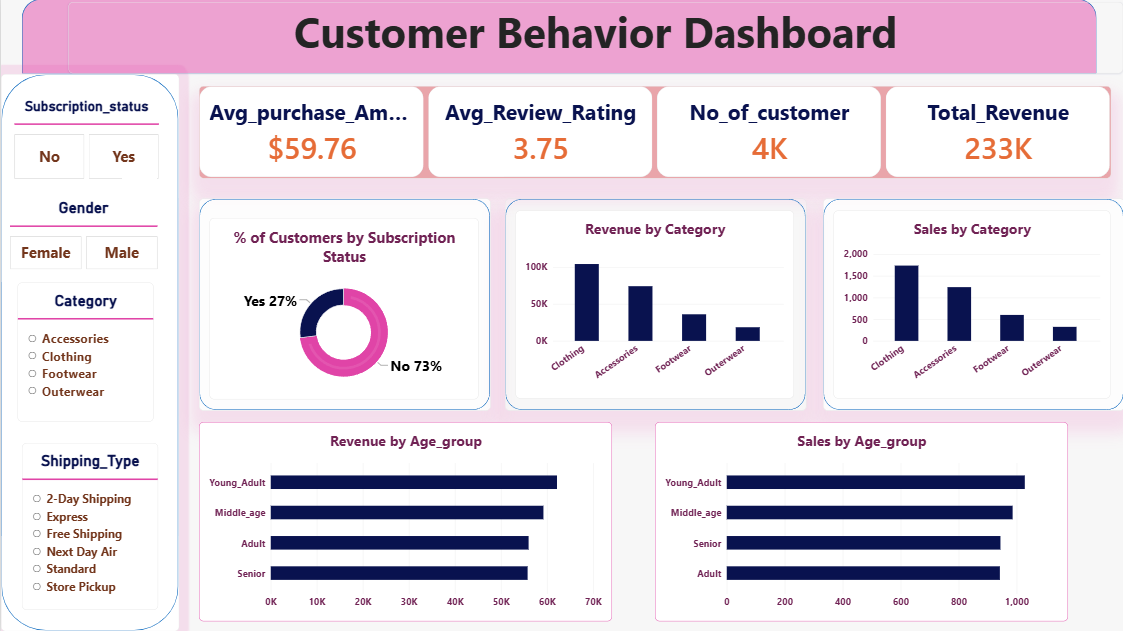

What the dashboard file says about the page in this screenshot:
{"tool":"powerbi","page":{"name":"Page 1","canvas":[1920,1080],"ordinal":0},"visuals":[{"type":"cardVisual","fields":{"Data":["customer.Avg_purchase_Amount","customer.Avg_Review_Rating","customer.No_of_customer","customer.Total_Revenue"]},"box":[337.8,149.5,1559.1,157.8],"z":0},{"type":"shape","box":[36.9,0,1836.9,127.6],"z":1000},{"type":"textbox","box":[116.2,5.7,1802.8,121.9],"z":2000},{"type":"shape","box":[0,127.4,304.6,952.6],"z":3000},{"type":"advancedSlicerVisual","title":"Subscription_status","fields":{"Values":["customer.subscription_status"]},"box":[22.2,168.9,246.5,138.5],"z":4000},{"type":"advancedSlicerVisual","title":"Gender","fields":{"Values":["customer.gender"]},"box":[16.6,340.6,252,121.8],"z":5000},{"type":"listSlicer","title":"Shipping_Type","fields":{"Values":["customer.shipping_type"]},"box":[36,758.8,232.6,285.2],"z":6000},{"type":"listSlicer","title":"Category","fields":{"Values":["customer.category"]},"box":[27.7,484.6,232.6,238.2],"z":7000},{"type":"shape","box":[337.8,340.6,498.5,362.8],"z":8000},{"type":"donutChart","title":"% of Customers by Subscription Status","fields":{"Category":["customer.subscription_status"],"Y":["CountNonNull(customer.customer_id)"]},"box":[357.2,373.8,459.7,310.2],"z":9000},{"type":"clusteredColumnChart","title":"Revenue by Category","fields":{"Category":["customer.category"],"Y":["Sum(customer.purchase_amount)"]},"box":[880.6,362.8,476.3,321.2],"z":10000},{"type":"shape","box":[1404,340.6,515.1,362.8],"z":11000},{"type":"shape","box":[861.2,340.6,515.1,362.8],"z":12000},{"type":"clusteredBarChart","title":"Revenue by Age_group","fields":{"Category":["customer.Age_group"],"Y":["customer.Total_Revenue"]},"box":[337.8,722.8,706.2,340.6],"z":13000},{"type":"clusteredColumnChart","title":"Sales by Category","fields":{"Category":["customer.category"],"Y":["Count(customer.customer_id)"]},"box":[1423.4,362.8,473.5,321.2],"z":14000},{"type":"clusteredBarChart","title":"Sales by Age_group","fields":{"Category":["customer.Age_group"],"Y":["CountNonNull(customer.customer_id)"]},"box":[1118.8,722.8,706.2,340.6],"z":14001}]}

Visuals, with their boxes in screenshot pixels (x1, y1, x2, y2), scaled from the page's 1920x1080 canvas onto the 1123x631 screenshot:
cardVisual - customer.Avg_purchase_Amount x customer.Avg_Review_Rating: box=[198, 87, 1109, 180]
shape: box=[22, 0, 1096, 75]
textbox: box=[68, 3, 1122, 75]
shape: box=[0, 74, 178, 630]
"Subscription_status" advancedSlicerVisual: box=[13, 99, 157, 180]
"Gender" advancedSlicerVisual: box=[10, 199, 157, 270]
"Shipping_Type" listSlicer: box=[21, 443, 157, 610]
"Category" listSlicer: box=[16, 283, 152, 422]
shape: box=[198, 199, 489, 411]
"% of Customers by Subscription Status" donutChart: box=[209, 218, 478, 400]
"Revenue by Category" clusteredColumnChart: box=[515, 212, 794, 400]
shape: box=[821, 199, 1122, 411]
shape: box=[504, 199, 805, 411]
"Revenue by Age_group" clusteredBarChart: box=[198, 422, 611, 621]
"Sales by Category" clusteredColumnChart: box=[833, 212, 1109, 400]
"Sales by Age_group" clusteredBarChart: box=[654, 422, 1067, 621]
